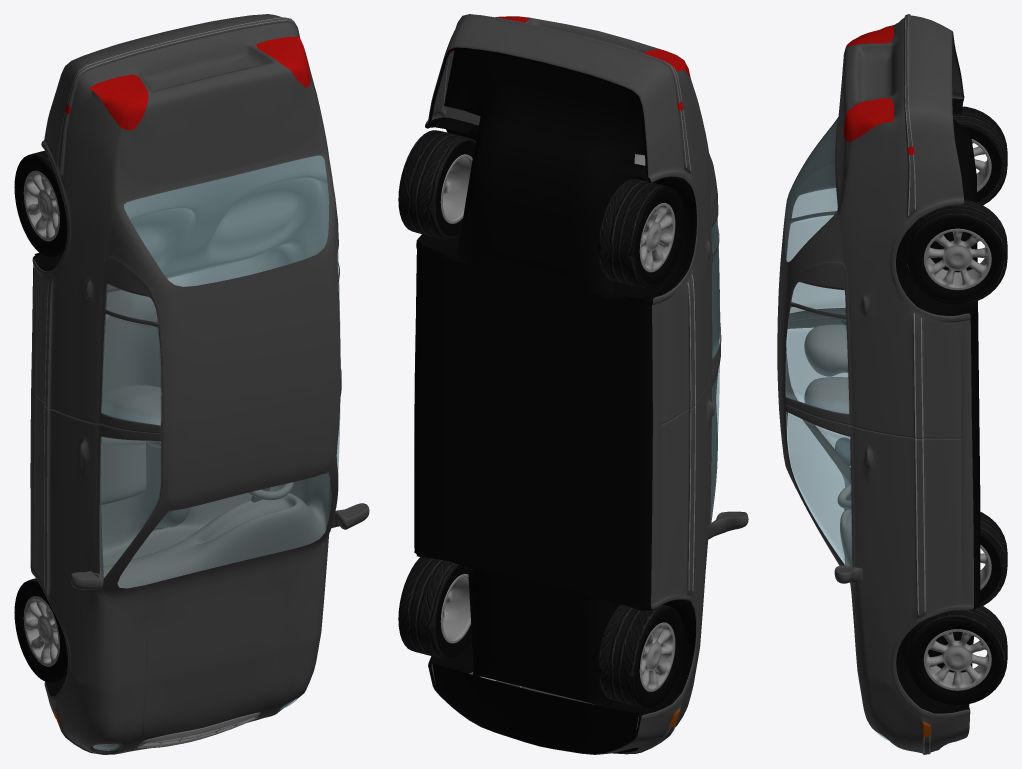
File: Sedan.obj
3 renders of one model, left to right at view 1: azimuth 30°, elevation 25°; view 2: azimuth 150°, elevation 25°; view 3: azimuth 270°, elevation 25°, orthographic. The views are drawn at different scales.
Visible parts, largest first — view 1: group1_FourDoorBody, group1_Glass2, Chrome2_group1, group1_StopLight; view 2: group1_FourDoorBody, Chrome2_group1, group1_Glass2, group1_StopLight; view 3: group1_FourDoorBody, group1_Glass2, Chrome2_group1, group1_StopLight.
Boxes of the visible parts, x1=… form: group1_FourDoorBody: x1=14, y1=14, x2=369, y2=754; group1_Glass2: x1=93, y1=155, x2=341, y2=752; Chrome2_group1: x1=23, y1=17, x2=293, y2=749; group1_StopLight: x1=88, y1=36, x2=310, y2=130; group1_FourDoorBody: x1=398, y1=14, x2=748, y2=754; Chrome2_group1: x1=440, y1=20, x2=695, y2=749; group1_Glass2: x1=711, y1=217, x2=720, y2=520; group1_StopLight: x1=495, y1=16, x2=690, y2=77; group1_FourDoorBody: x1=777, y1=14, x2=1007, y2=754; group1_Glass2: x1=785, y1=119, x2=889, y2=740; Chrome2_group1: x1=905, y1=14, x2=991, y2=754; group1_StopLight: x1=843, y1=25, x2=894, y2=141.
Bounding box in the file's own units: 211 × 482 × 151.
8 materials, 3 textured.
